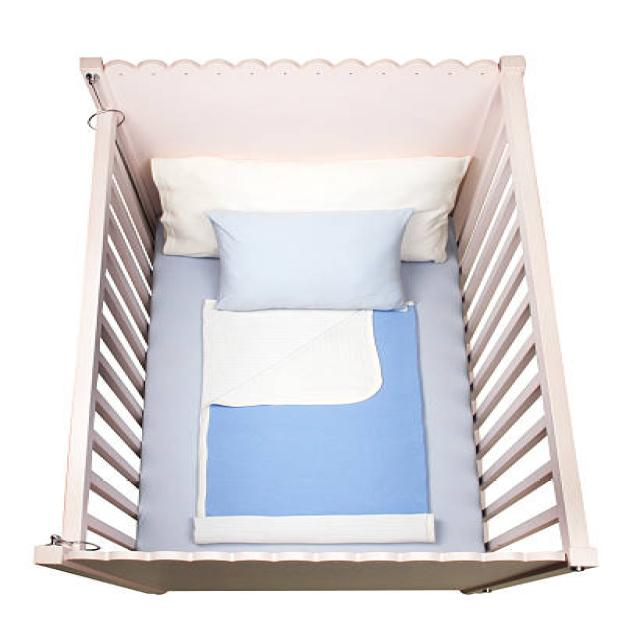crib: (33, 53, 599, 595)
